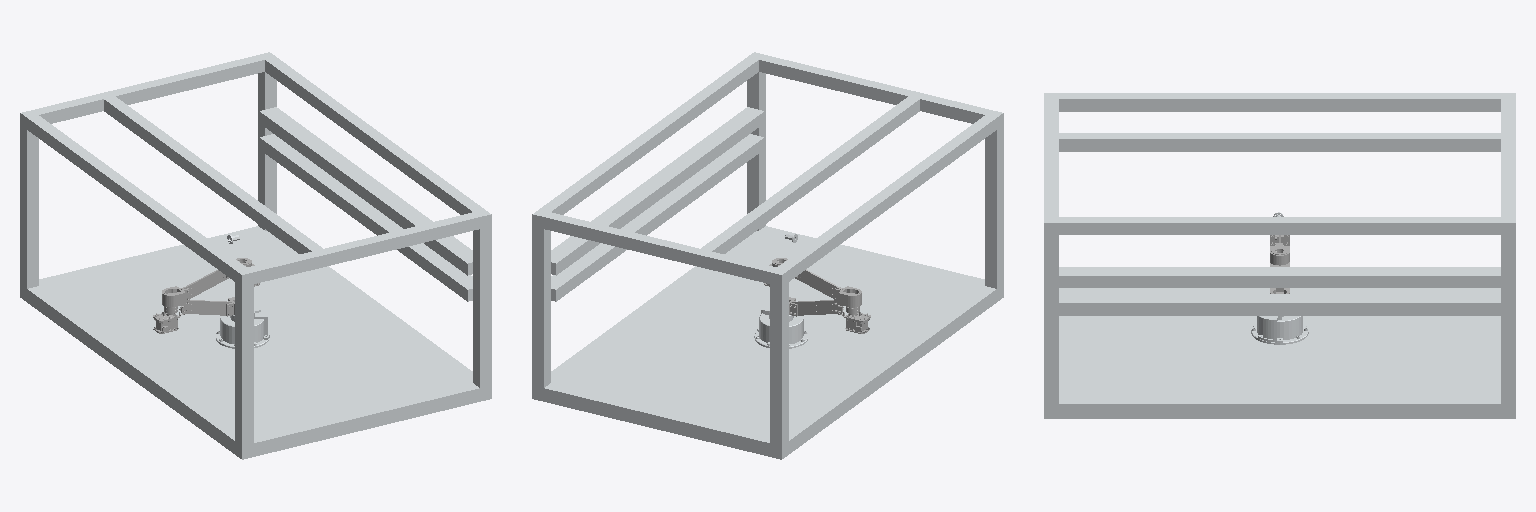
robot.urdf — spacearmdfm:
<?xml version="1.0" encoding="utf-8" ?>
<!-- This URDF was automatically created by SolidWorks to URDF Exporter! Originally created by [author] ([email redacted]) 
     Commit Version: 1.6.0-1-g15f4949  Build Version: 1.6.7594.29634
     For more information, please see http://wiki.ros.org/sw_urdf_exporter -->
<robot name="spacearmdfm">
    <link name="base_link">
        <inertial>
            <origin xyz="0.034598 0.040396 2.6437E-05" rpy="0 0 0" />
            <mass value="40.61" />
            <inertia ixx="5.5755" ixy="6.3594E-13" ixz="5.2317E-13" iyy="7.0157" iyz="3.5193E-07" izz="2.9754" />
        </inertial>
        <visual>
            <origin xyz="0 0 0" rpy="0 0 0" />
            <geometry>
                <mesh filename="package://spacearmdfm/meshes/base_link1.STL" />
            </geometry>
            <material name="">
                <color rgba="0.89804 0.91765 0.92941 1" />
            </material>
        </visual>
        <collision>
            <origin xyz="0 0 0" rpy="0 0 0" />
            <geometry>
                <mesh filename="package://spacearmdfm/meshes/base_link1.STL" />
            </geometry>
        </collision>
    </link>
    <link name="l1">
        <inertial>
            <origin xyz="0.10071 -3.3868E-06 0.024824" rpy="0 0 0" />
            <mass value="0.50688" />
            <inertia ixx="0.00010294" ixy="5.2662E-13" ixz="-6.4357E-05" iyy="0.00034482" iyz="6.3707E-13" izz="0.00032713" />
        </inertial>
        <visual>
            <origin xyz="0 0 0" rpy="0 0 0" />
            <geometry>
                <mesh filename="package://spacearmdfm/meshes/l1.STL" />
            </geometry>
            <material name="">
                <color rgba="0.75294 0.75294 0.75294 1" />
            </material>
        </visual>
        <collision>
            <origin xyz="0 0 0" rpy="0 0 0" />
            <geometry>
                <mesh filename="package://spacearmdfm/meshes/l1.STL" />
            </geometry>
        </collision>
    </link>
    <joint name="j1" type="revolute">
        <origin xyz="0 0 0" rpy="0 0 3.14" />
        <parent link="base_link" />
        <child link="l1" />
        <axis xyz="0 0 1" />
        <limit lower="-3.13" upper="3.13" effort="3" velocity="6.28" />
    </joint>
    <link name="l2">
        <inertial>
            <origin xyz="0.099702 -3.4269E-06 0.024709" rpy="0 0 0" />
            <mass value="0.50096" />
            <inertia ixx="0.00010276" ixy="5.2216E-13" ixz="-6.4357E-05" iyy="0.00034464" iyz="6.3588E-13" izz="0.00032678" />
        </inertial>
        <visual>
            <origin xyz="0 0 0" rpy="0 0 0" />
            <geometry>
                <mesh filename="package://spacearmdfm/meshes/l2.STL" />
            </geometry>
            <material name="">
                <color rgba="0.75294 0.75294 0.75294 1" />
            </material>
        </visual>
        <collision>
            <origin xyz="0 0 0" rpy="0 0 0" />
            <geometry>
                <mesh filename="package://spacearmdfm/meshes/l2.STL" />
            </geometry>
        </collision>
    </link>
    <joint name="j2" type="revolute">
        <origin xyz="0.186 0 0.0625" rpy="0 0 3.14" />
        <parent link="l1" />
        <child link="l2" />
        <axis xyz="0 0 1" />
        <limit lower="-3.13" upper="3.13" effort="3" velocity="6.28" />
    </joint>
    <link name="l3">
        <inertial>
            <origin xyz="-0.0053898 0.0003839 0.054944" rpy="0 0 0" />
            <mass value="0.84312" />
            <inertia ixx="0.0011346" ixy="1.1847E-06" ixz="3.2835E-05" iyy="0.00031979" iyz="-7.9844E-08" izz="0.0010569" />
        </inertial>
        <visual>
            <origin xyz="0 0 0" rpy="0 0 0" />
            <geometry>
                <mesh filename="package://spacearmdfm/meshes/l3.STL" />
            </geometry>
            <material name="">
                <color rgba="0.89804 0.91765 0.92941 1" />
            </material>
        </visual>
        <collision>
            <origin xyz="0 0 0" rpy="0 0 0" />
            <geometry>
                <mesh filename="package://spacearmdfm/meshes/l3.STL" />
            </geometry>
        </collision>
    </link>
    <joint name="j3" type="revolute">
        <origin xyz="0.18569 0 0.055" rpy="0 0 0" />
        <parent link="l2" />
        <child link="l3" />
        <axis xyz="0 0 1" />
        <limit lower="-2.5" upper="2.5" effort="3" velocity="6.28" />
    </joint>
    <link name="l4">
        <inertial>
            <origin xyz="0.00995749778081301 1.58054141102916E-12 2.77555756156289E-17" rpy="0 0 0" />
            <mass value="0.00748445641331585" />
            <inertia ixx="2.34586308333842E-07" ixy="-1.39812823749695E-22" ixz="-1.14481971585751E-22" iyy="5.71579386392445E-07" iyz="-8.98998509364347E-23" izz="5.71579386392445E-07" />
        </inertial>
        <visual>
            <origin xyz="0 0 0" rpy="0 0 0" />
            <geometry>
                <mesh filename="package://spacearmdfm/meshes/l4.STL" />
            </geometry>
            <material name="">
                <color rgba="0.898039215686275 0.917647058823529 0.929411764705882 1" />
            </material>
        </visual>
        <collision>
            <origin xyz="0 0 0" rpy="0 0 0" />
            <geometry>
                <mesh filename="package://spacearmdfm/meshes/l4.STL" />
            </geometry>
        </collision>
    </link>
    <joint name="j4" type="revolute">
        <origin xyz="-0.0346770784550887 -0.00279158474661675 0.0684999999999987" rpy="0 0 0" />
        <parent link="l3" />
        <child link="l4" />
        <axis xyz="1 0 0" />
        <limit lower="-2.09" upper="2.09" effort="0" velocity="0" />
    </joint>
    <transmission name="trans_j1">
        <type>transmission_interface/SimpleTransmission</type>
        <joint name="j1">
            <hardwareInterface>hardware_interface/EffortJointInterface</hardwareInterface>
        </joint>
        <actuator name="j1_motor">
            <hardwareInterface>hardware_interface/EffortJointInterface</hardwareInterface>
            <mechanicalReduction>1</mechanicalReduction>
        </actuator>
    </transmission>
    <transmission name="trans_j2">
        <type>transmission_interface/SimpleTransmission</type>
        <joint name="j2">
            <hardwareInterface>hardware_interface/EffortJointInterface</hardwareInterface>
        </joint>
        <actuator name="j2_motor">
            <hardwareInterface>hardware_interface/EffortJointInterface</hardwareInterface>
            <mechanicalReduction>1</mechanicalReduction>
        </actuator>
    </transmission>
    <transmission name="trans_j3">
        <type>transmission_interface/SimpleTransmission</type>
        <joint name="j3">
            <hardwareInterface>hardware_interface/EffortJointInterface</hardwareInterface>
        </joint>
        <actuator name="j3_motor">
            <hardwareInterface>hardware_interface/EffortJointInterface</hardwareInterface>
            <mechanicalReduction>1</mechanicalReduction>
        </actuator>
    </transmission>
    <transmission name="trans_j4">
        <type>transmission_interface/SimpleTransmission</type>
        <joint name="j4">
            <hardwareInterface>hardware_interface/EffortJointInterface</hardwareInterface>
        </joint>
        <actuator name="j4_motor">
            <hardwareInterface>hardware_interface/EffortJointInterface</hardwareInterface>
            <mechanicalReduction>1</mechanicalReduction>
        </actuator>
    </transmission>
    <gazebo>
        <plugin name="gazebo_ros_control">
            <robotNamespace>/</robotNamespace>
        </plugin>
    </gazebo>
</robot>

--- What the picture shows (computed from the rendered views, not written in the file) ---
Views: 3 orthographic renders of the robot side by side, from view 1: azimuth 30°, elevation 25°; view 2: azimuth 150°, elevation 25°; view 3: azimuth 270°, elevation 25°.
Model spacearmdfm with 5 links and 4 joints (4 revolute), rooted at base_link, posed every joint at zero.
Links seen in each view (by area): view 1: base_link, l1, l2; view 2: base_link, l1, l2; view 3: base_link, l2.
Boxes of the visible links, box(x1,y1,x2,y2) form: base_link: box(20, 52, 491, 459); l1: box(153, 297, 234, 333); l2: box(162, 258, 259, 314); base_link: box(532, 52, 1003, 459); l1: box(789, 297, 870, 333); l2: box(764, 258, 861, 315); base_link: box(1044, 93, 1515, 418); l2: box(1270, 235, 1289, 266).
Size in the robot's own frame: 0.65 by 1 by 0.46 metres.
Meshes: 5 distinct files referenced, 4 mesh visuals loaded (4 binary STL); not drawn: 1 (reference not matched to a file when rendering).